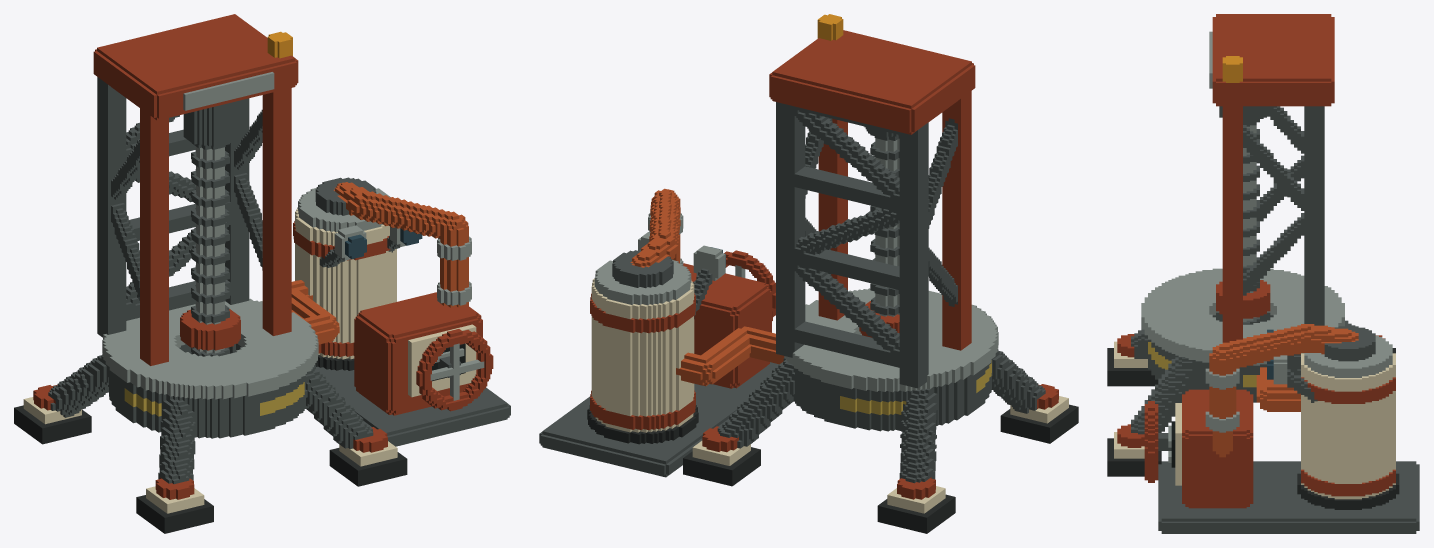
The model's file is geothermal_drill.glb.
3 views of the same model, side by side, from view 1: azimuth 30°, elevation 25°; view 2: azimuth 150°, elevation 25°; view 3: azimuth 270°, elevation 25° (orthographic). The views are drawn at different scales.
Visible parts, largest first — view 1: geothermal_drill; view 2: geothermal_drill; view 3: geothermal_drill.
Boxes of the visible parts, x1,y1,x2,y2 form: geothermal_drill: (14, 14, 510, 533); geothermal_drill: (539, 14, 1078, 533); geothermal_drill: (1107, 14, 1419, 533).
Size of the model in its own units: 5.49 by 5.67 by 4.14.
